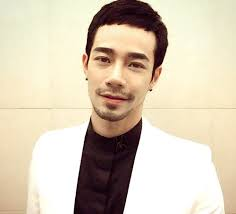asian_male: (73, 1, 168, 135)
